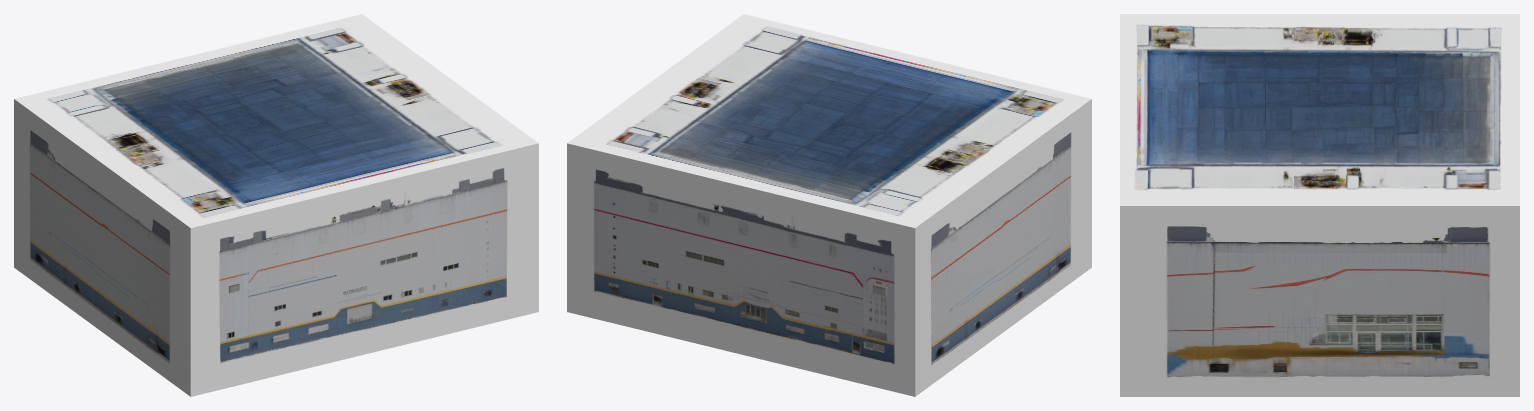
Rendered from fab_building.glb.
The picture shows the model from 3 angles, left to right: view 1: azimuth 30°, elevation 25°; view 2: azimuth 150°, elevation 25°; view 3: azimuth 270°, elevation 25°; orthographic projection. The views are drawn at different scales.
Visible parts, largest first — view 1: building; view 2: building; view 3: building.
Part boxes in pixels (x1,y1,x2,y2): building: (14,14,538,396); building: (567,14,1091,396); building: (1120,14,1519,396).
Bounding box in the file's own units: 1 × 0.4632 × 0.8793.
Materials: 6 (5 with a texture image).
